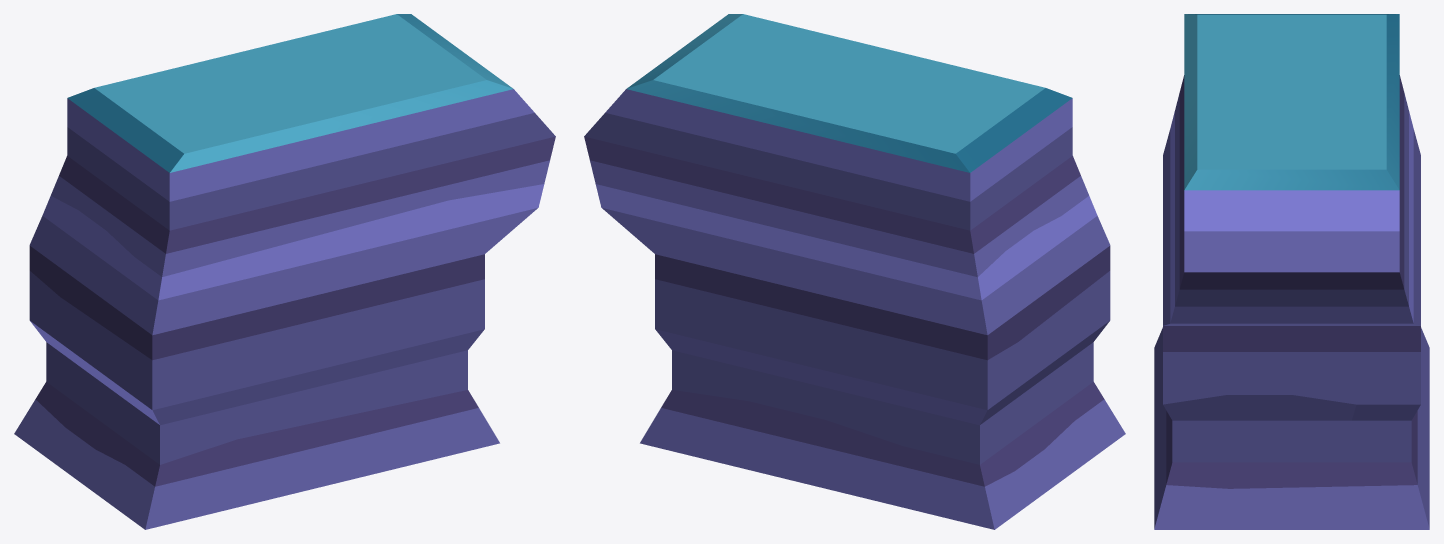
The model's file is StoneWall014.fbx.
The picture shows the model from 3 angles, left to right: view 1: azimuth 30°, elevation 25°; view 2: azimuth 150°, elevation 25°; view 3: azimuth 270°, elevation 25°; orthographic projection. The views are drawn at different scales.
Parts seen in each view (by area): view 1: StoneWall014; view 2: StoneWall014; view 3: StoneWall014.
Part boxes in pixels (left/top/right/bottom): StoneWall014: left=14, top=14, right=555, bottom=529; StoneWall014: left=584, top=14, right=1125, bottom=529; StoneWall014: left=1154, top=14, right=1429, bottom=529.
Size of the model in its own units: 619 by 482 by 331.
